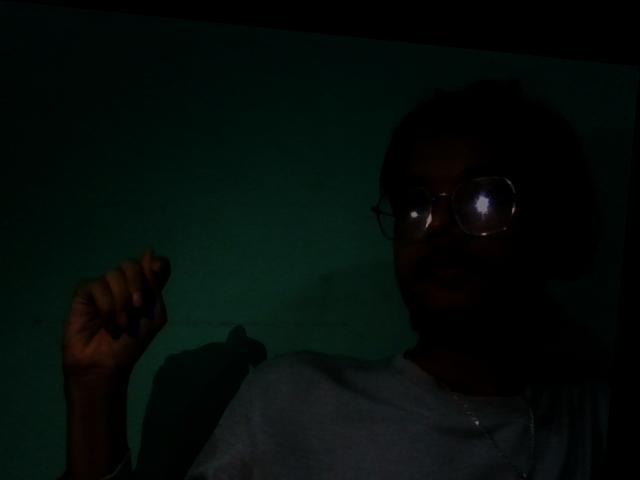Washroom: (46, 223, 191, 399)
